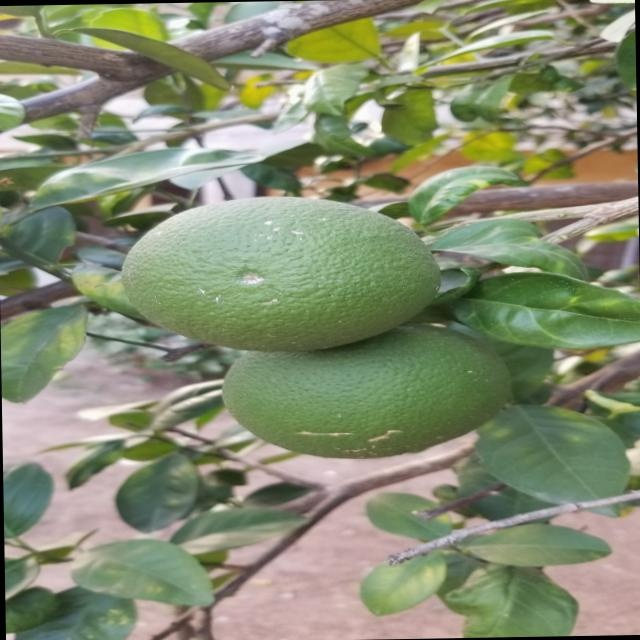agrume: (109, 190, 435, 354), (212, 330, 528, 461)
